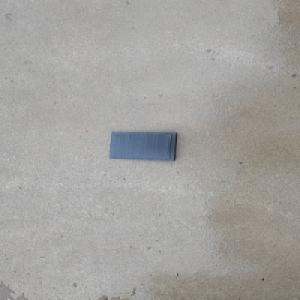PlasticPart: (108, 130, 179, 161)
